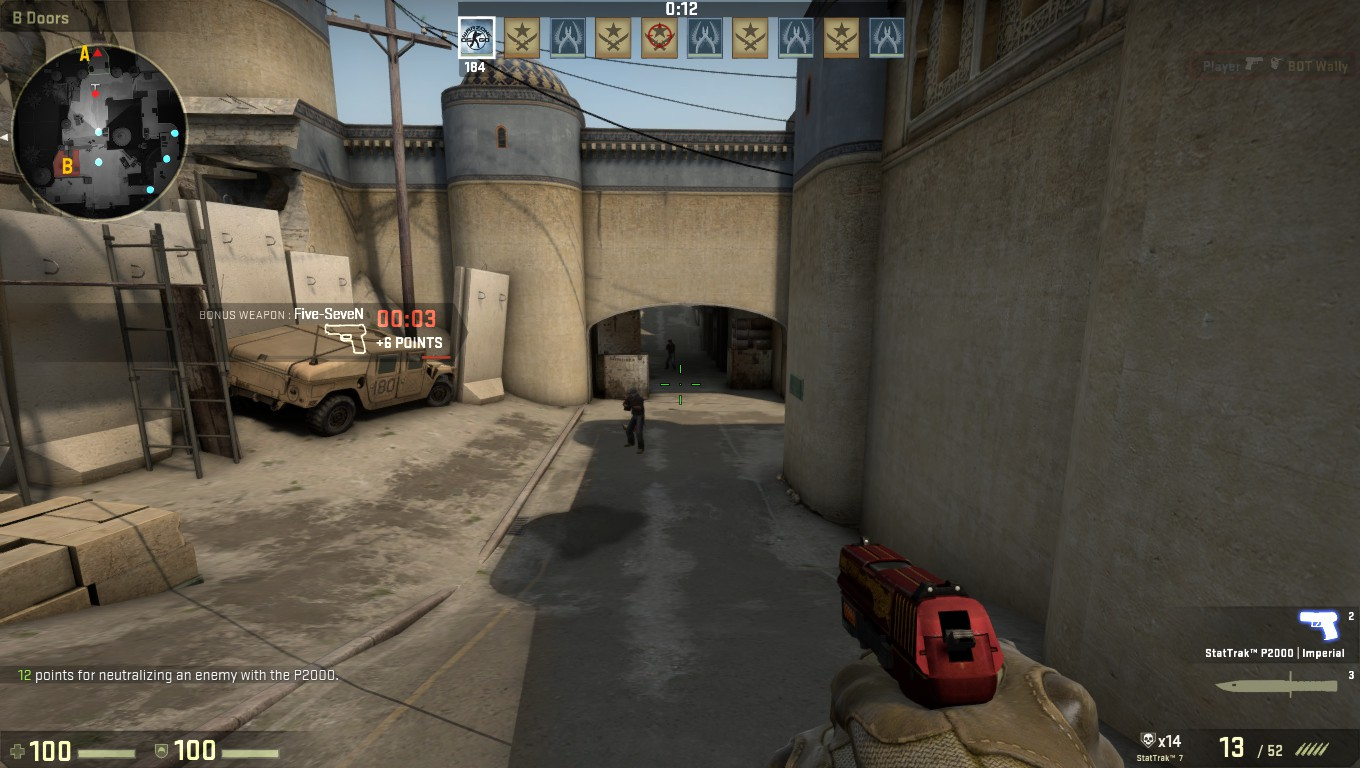t: (621, 386, 648, 454), (663, 336, 677, 371)
th: (627, 387, 639, 400), (666, 338, 674, 345)
